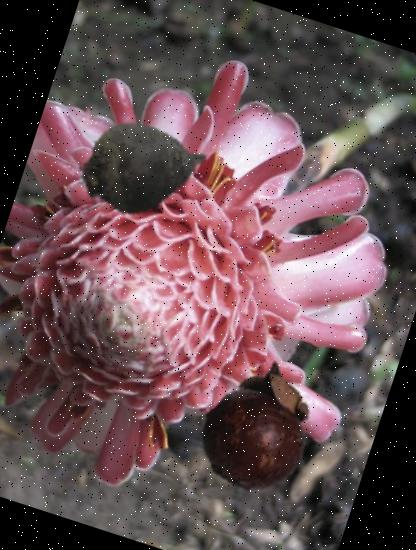Beetroot: (47, 70, 236, 260)
Mangostan: (180, 350, 341, 512)
